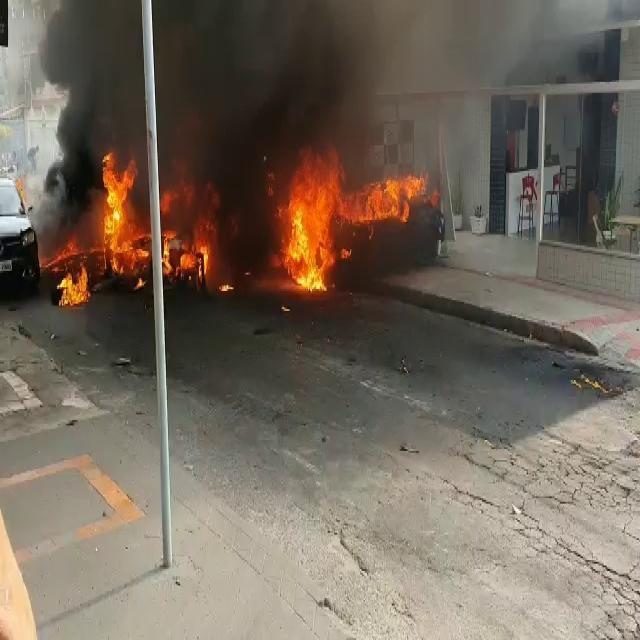Fire: (259, 161, 427, 288), (44, 154, 149, 304), (161, 180, 234, 292), (15, 176, 24, 206)
Smoke: (155, 0, 466, 160), (52, 0, 142, 151)
